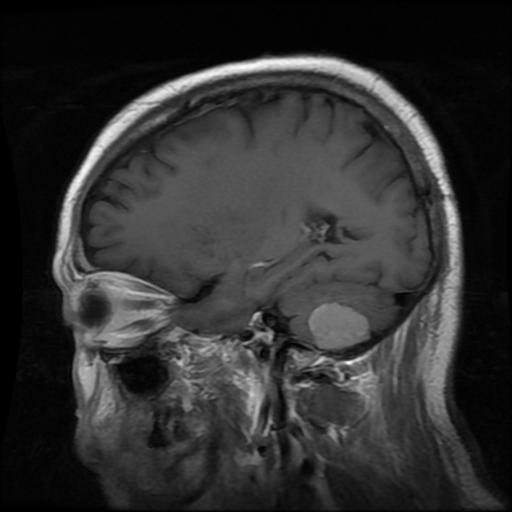Menigiomia_tumour: (308, 303, 368, 349)
